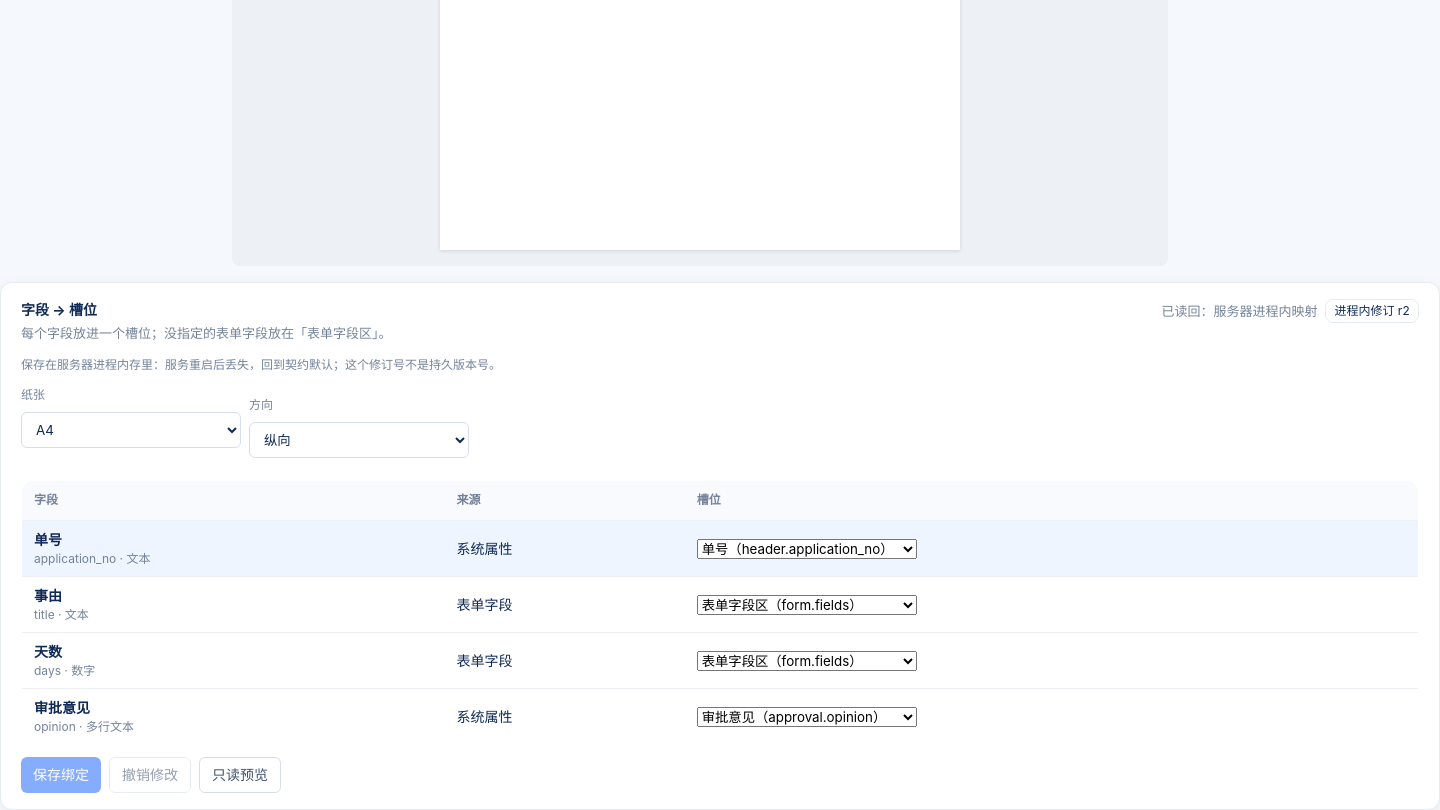
it: designer → read-only preview (CF-RD4) › stays in the designer when save-first hits a conflict
The width and height of the screenshot is (1440, 810).
(page scrolled)
Select "未映射（落入表单字段区）" in the dropdown with test id "designer-binding-days" at (807, 661), box [697,651,917,671]
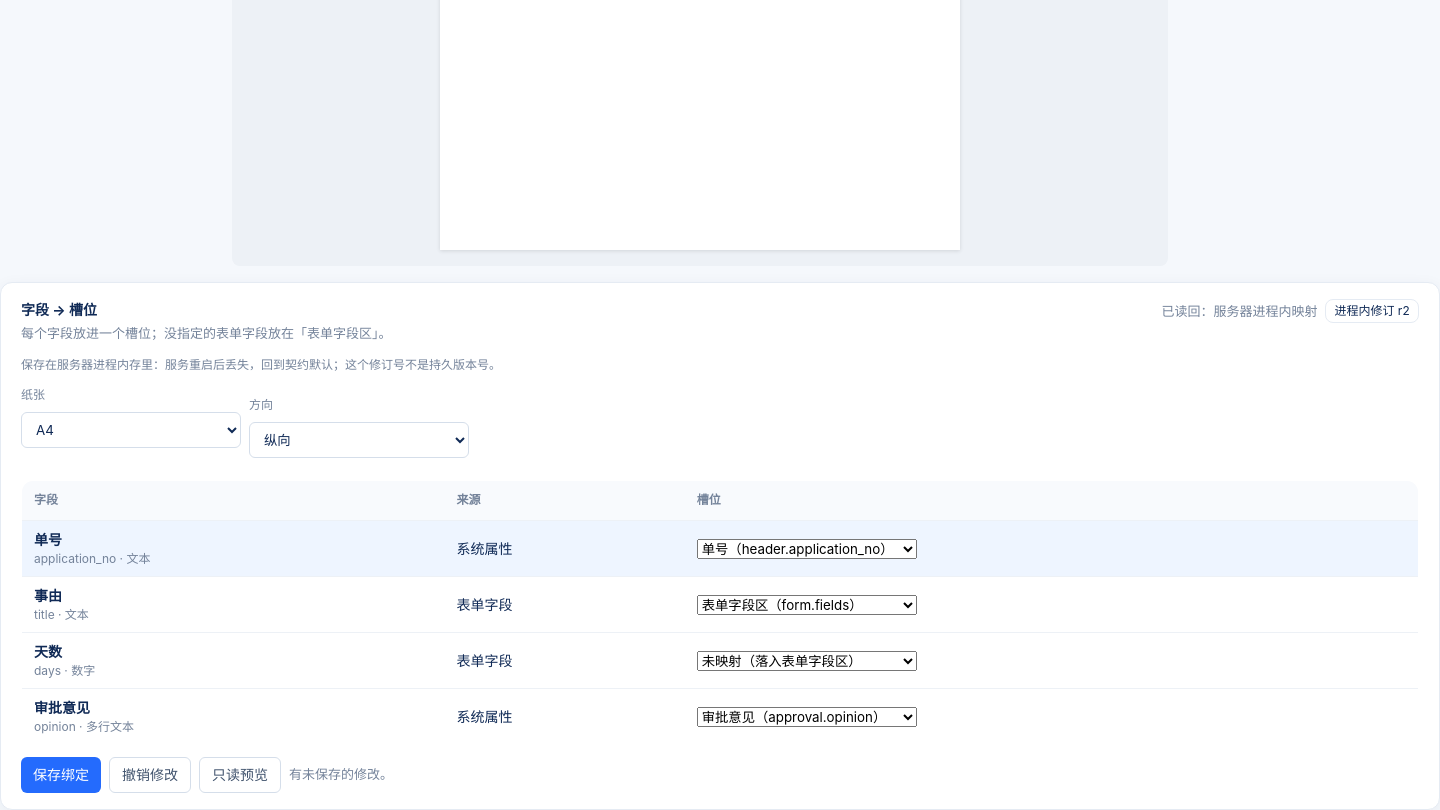
Click the button with test id "designer-open-preview" at (240, 775), box [199,757,281,793]
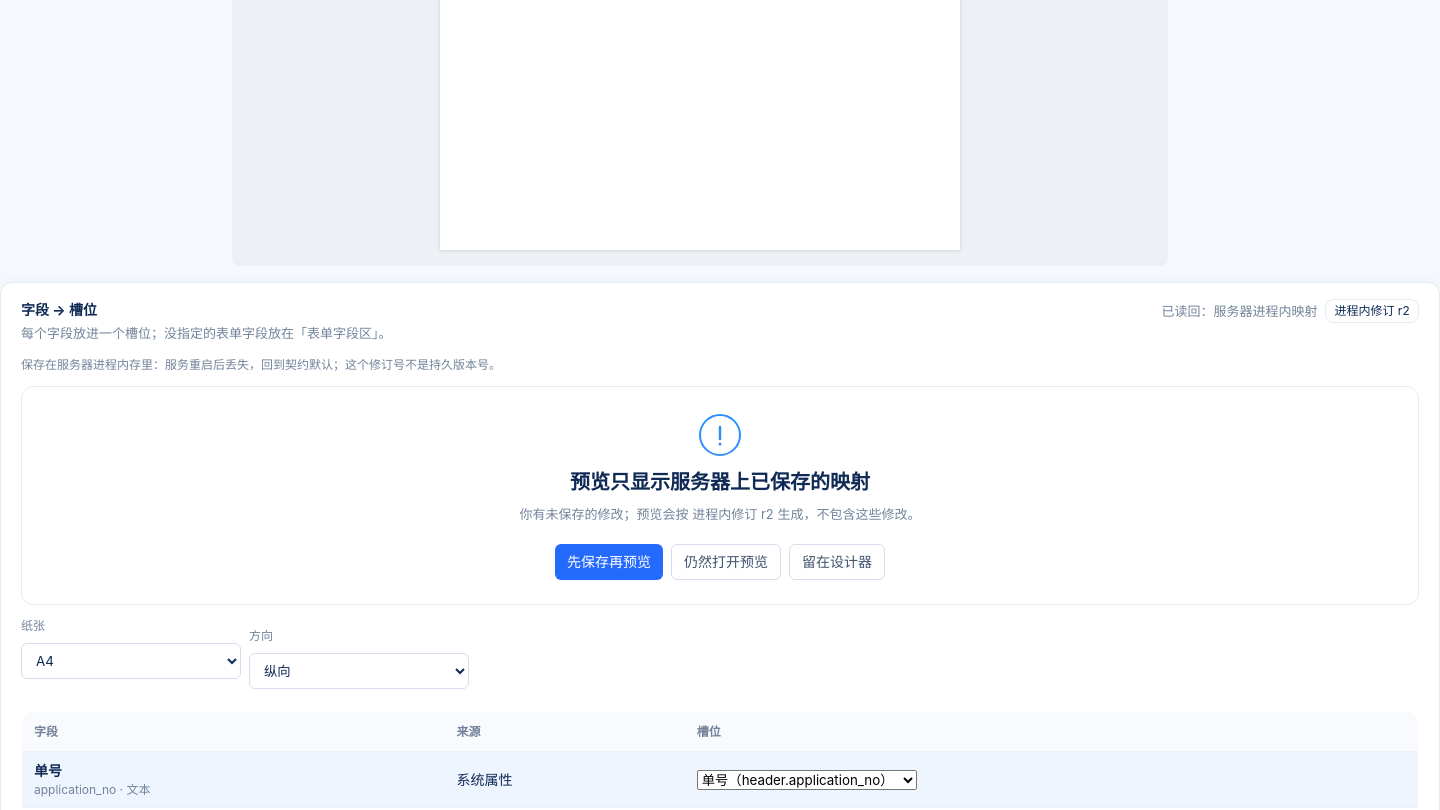
Click the button with test id "designer-preview-save-first" at (609, 562), box [555,544,663,580]
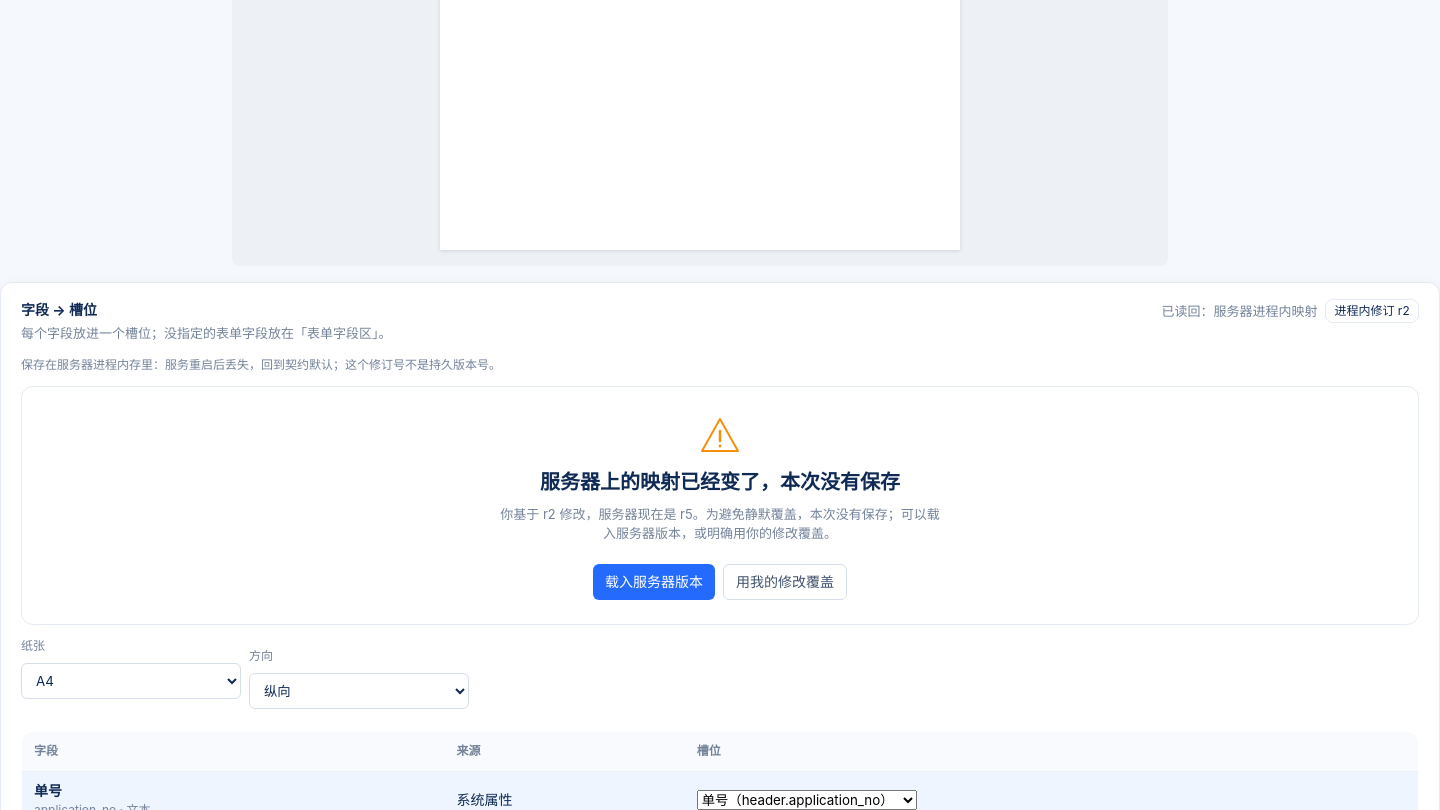
Expected: the message with test id "designer-binding-conflict" is shown, [21,386,1419,625]
